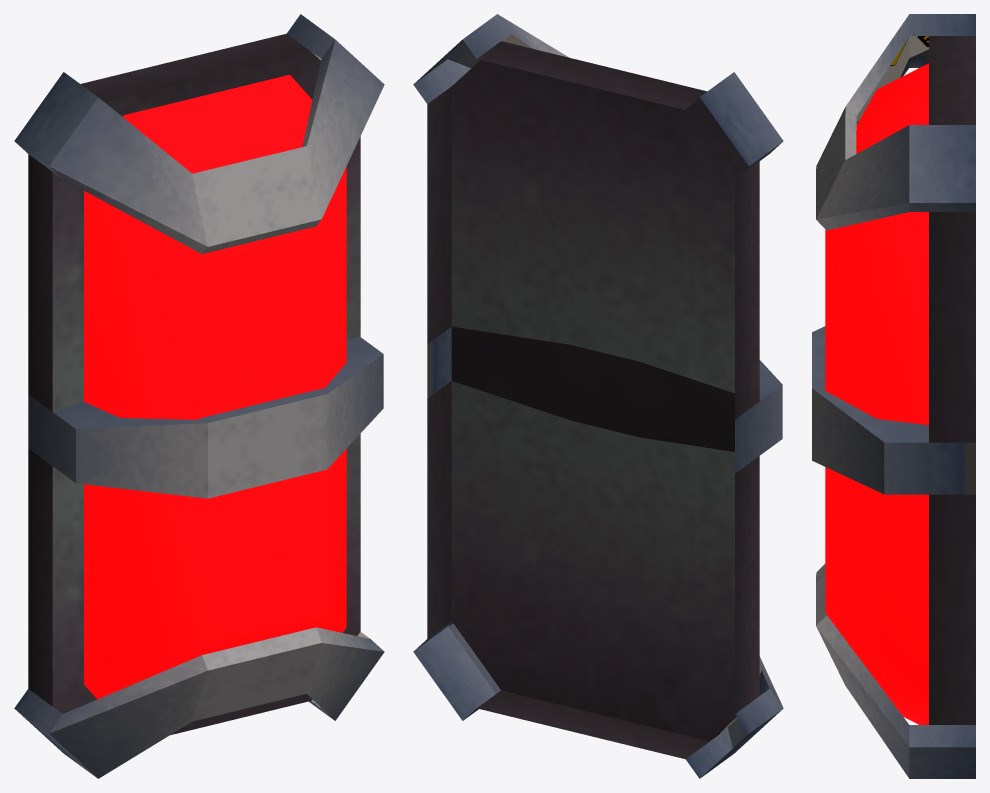
Rendered from SM_PROP_LAMP_02.fbx.
The picture shows the model from 3 angles, left to right: view 1: azimuth 30°, elevation 25°; view 2: azimuth 150°, elevation 25°; view 3: azimuth 270°, elevation 25°; orthographic projection. The views are drawn at different scales.
Visible parts, largest first — view 1: SM_PROP_LAMP_02; view 2: SM_PROP_LAMP_02; view 3: SM_PROP_LAMP_02.
Part boxes in pixels (bbox=[...]): SM_PROP_LAMP_02: bbox=[14, 14, 384, 778]; SM_PROP_LAMP_02: bbox=[413, 14, 783, 778]; SM_PROP_LAMP_02: bbox=[812, 14, 975, 778].
Size of the model in its own units: 0.3956 by 0.7674 by 0.1744.
